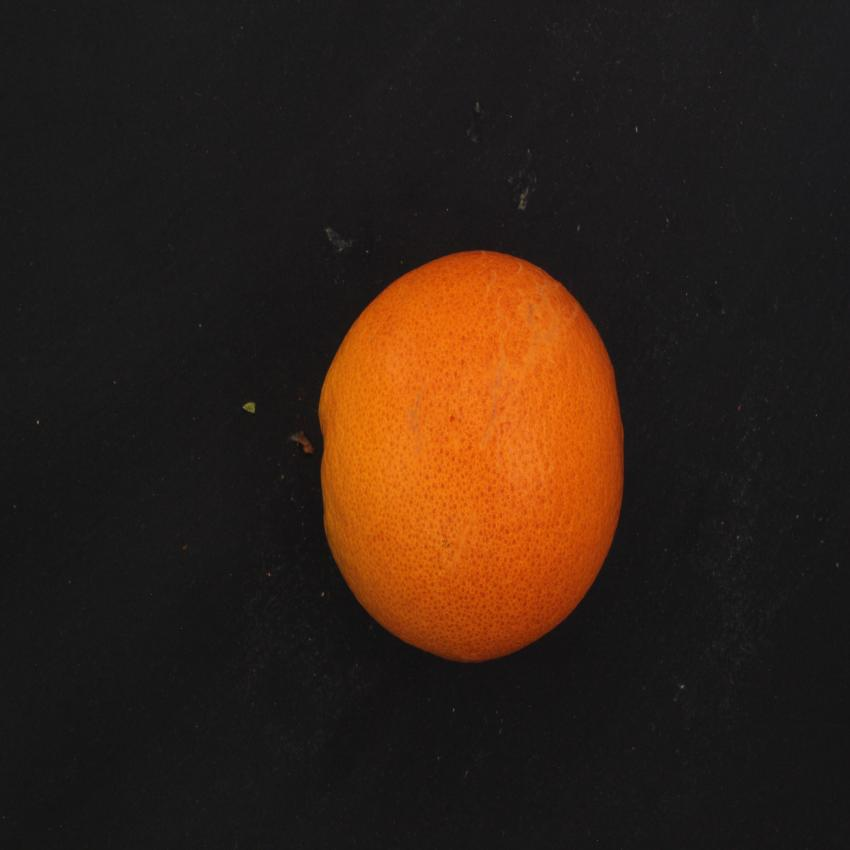Buen estado: (311, 240, 637, 680)
